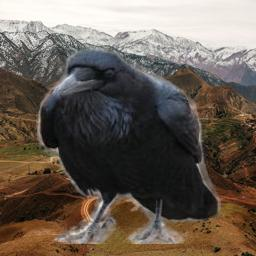Crow: (36, 47, 221, 244)
